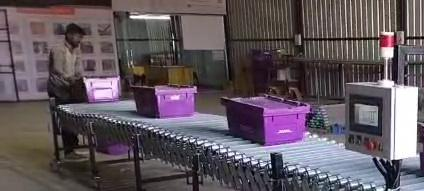box: (221, 96, 310, 145), (132, 85, 196, 117), (83, 76, 120, 102), (420, 124, 423, 172)
